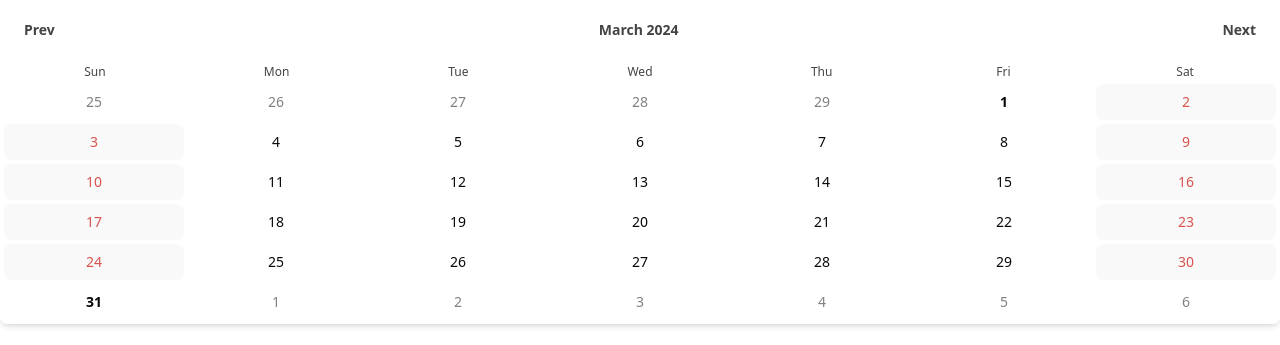
Label – navigation reactivity › updates when user clicks Previous
Click the button with test id "prev" at (39, 30), box x1=16 y1=16 x2=63 y2=44
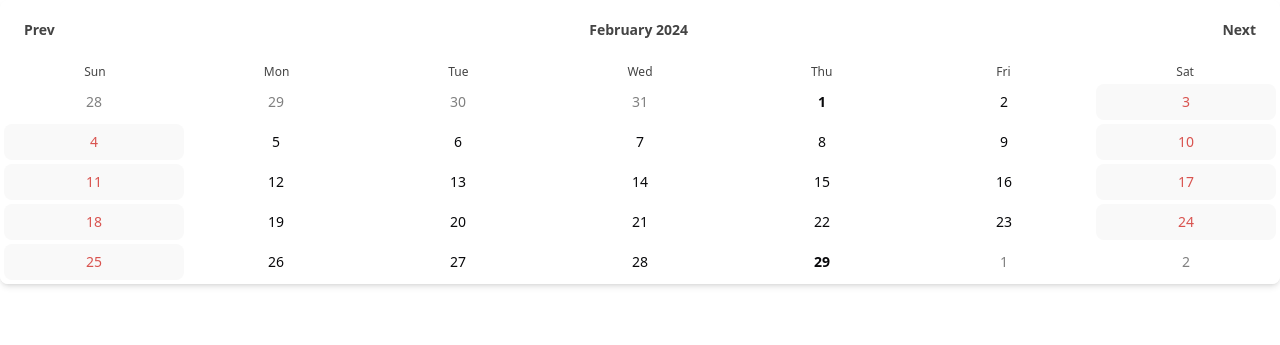
Expected: the text with test id "label" shows "February", x1=589 y1=20 x2=688 y2=39
